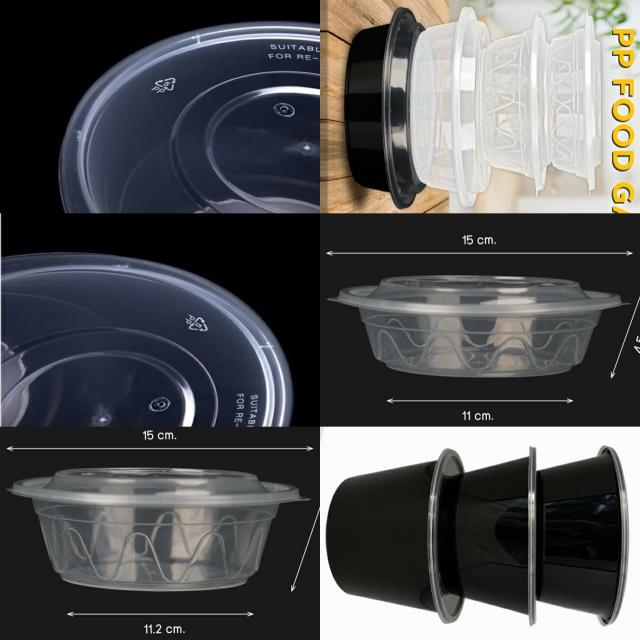plastik: (1, 252, 293, 426), (59, 22, 319, 212), (10, 468, 301, 591), (329, 275, 622, 377), (327, 449, 464, 622), (409, 8, 492, 206), (344, 8, 425, 209), (539, 446, 628, 624), (455, 448, 538, 624), (480, 15, 549, 191), (548, 14, 600, 189)
